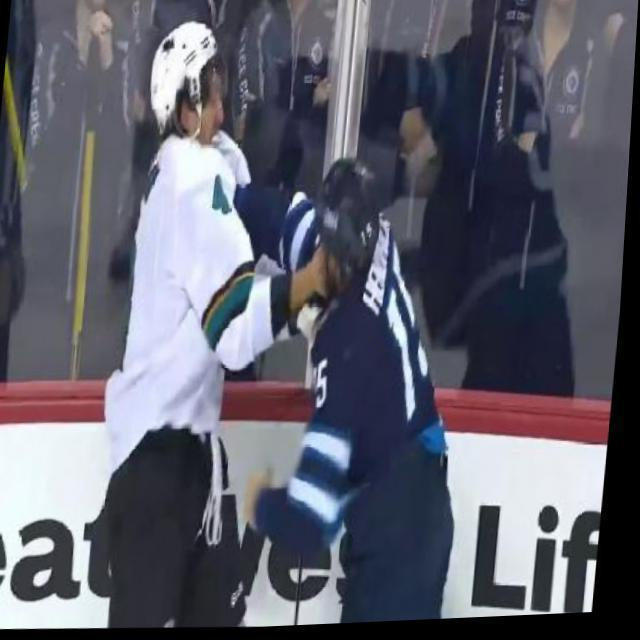fight: (102, 7, 508, 636)
